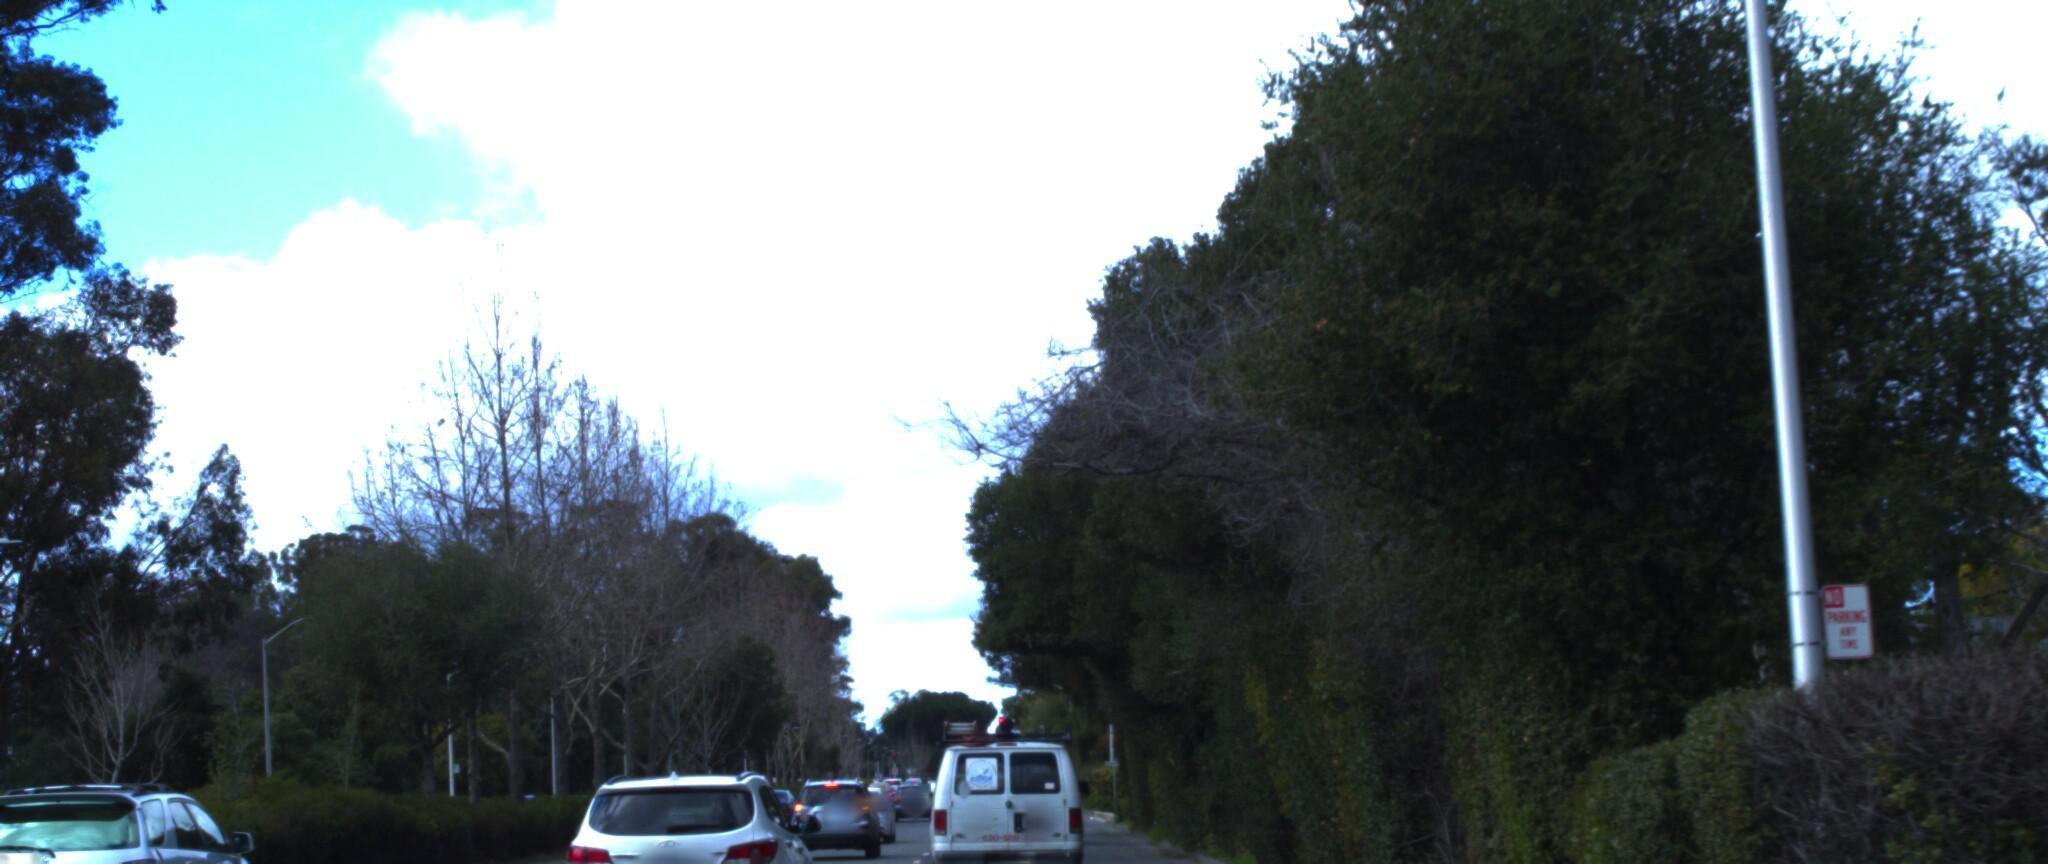car: (549, 730, 837, 864), (931, 688, 1121, 864), (0, 756, 306, 864), (786, 747, 895, 841)
